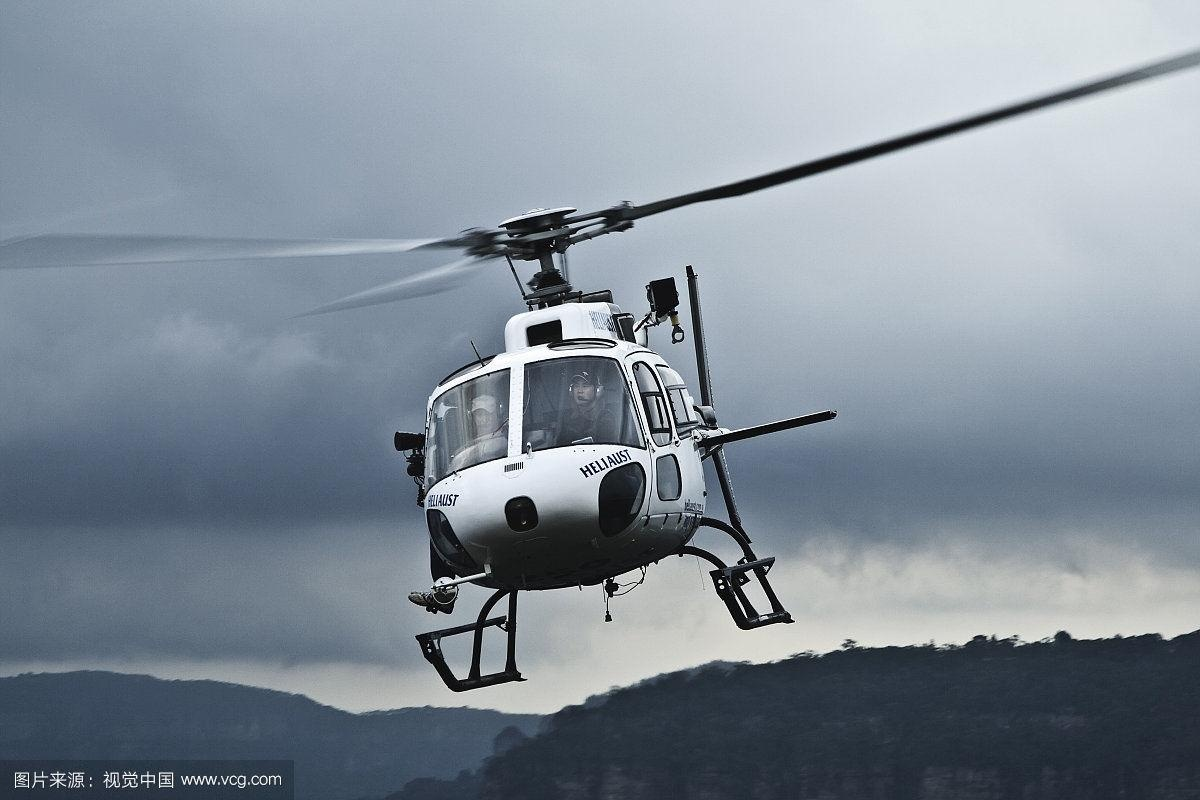airplane: (392, 53, 1200, 703)
